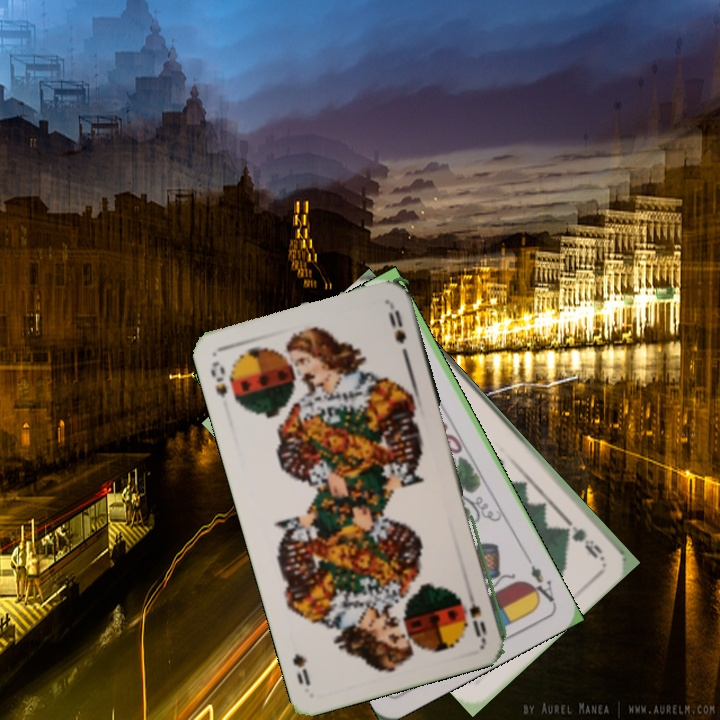EA: (523, 561, 557, 606)
G9: (561, 514, 607, 562)
SO: (462, 583, 490, 641), (206, 357, 230, 401)
